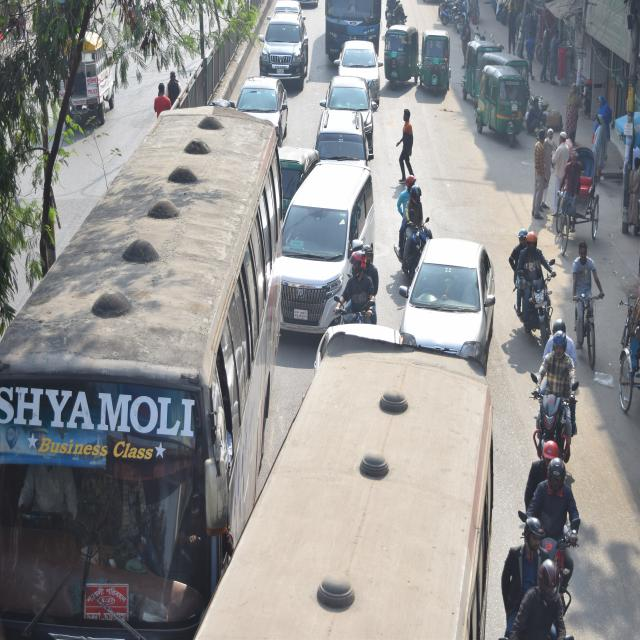bus: (13, 108, 275, 610), (206, 336, 485, 640), (320, 0, 385, 57)
car: (253, 10, 315, 87), (314, 106, 366, 164), (328, 71, 370, 130), (338, 36, 384, 87)
microbus: (278, 156, 369, 314)
motorbike: (524, 528, 576, 610), (530, 389, 582, 462), (394, 213, 440, 274), (524, 262, 554, 344)
pickup-van: (53, 21, 121, 116)
